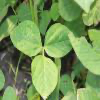Soyabean leaf: (10, 20, 43, 57), (31, 55, 58, 99), (44, 23, 76, 58)
